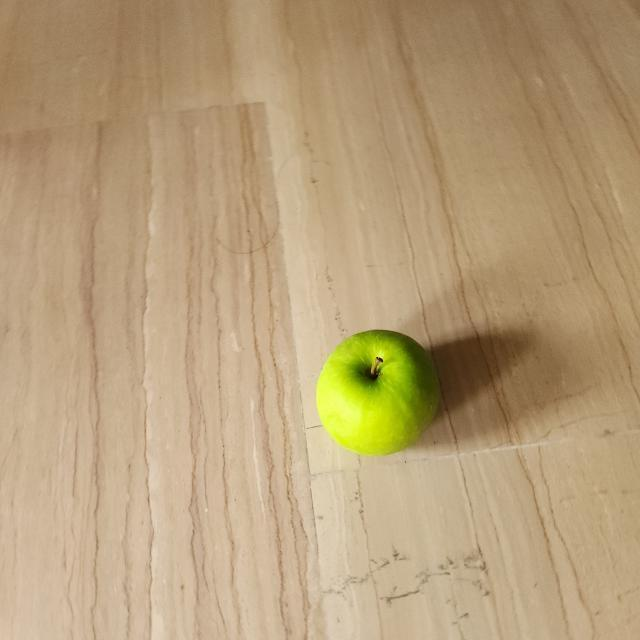apple: (310, 326, 451, 468)
